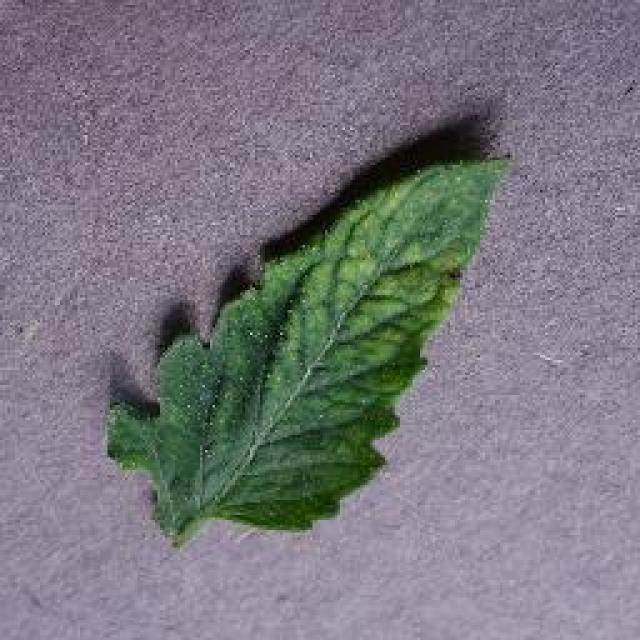Tomato spider mites leaf: (103, 148, 525, 542)
